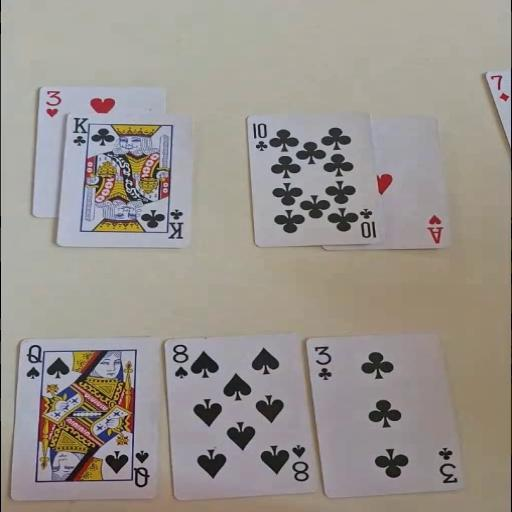10: (358, 206, 377, 239), (250, 121, 270, 152)
3: (435, 445, 459, 484), (312, 344, 334, 381), (42, 88, 62, 118)
7: (488, 73, 510, 102)
8: (289, 442, 311, 482), (170, 342, 190, 379)
A: (426, 213, 444, 244)
K: (163, 206, 185, 240), (70, 119, 88, 146), (70, 130, 88, 147)
Q: (130, 448, 151, 489), (23, 342, 43, 380)
